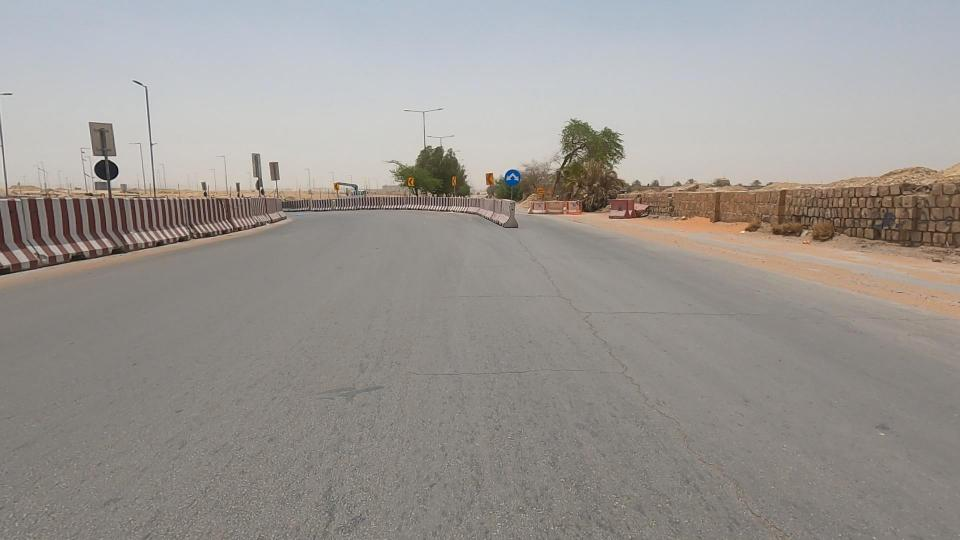CONSTRUCTION_ROAD: (0, 184, 220, 270), (397, 142, 558, 252), (130, 177, 304, 244), (319, 163, 458, 223)
